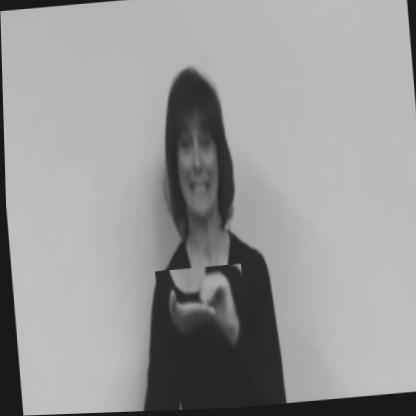ExcuseMe: (153, 265, 247, 363)
